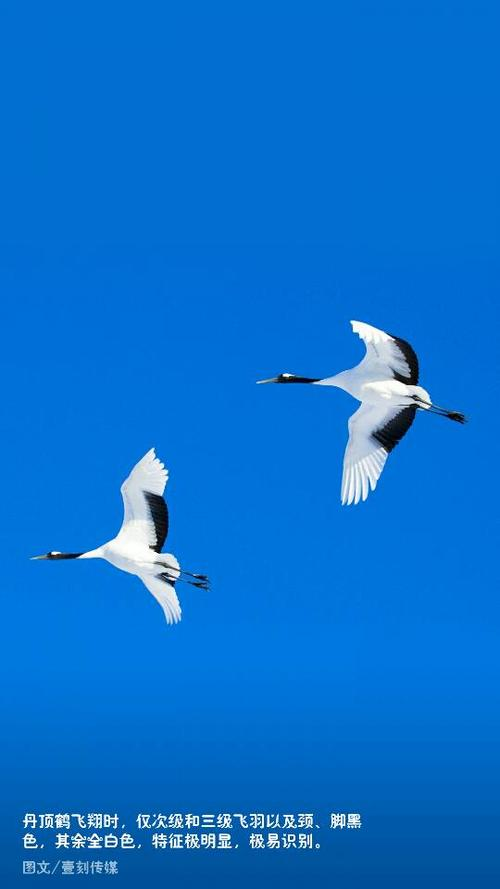bird: (249, 319, 472, 507), (26, 447, 223, 618)
